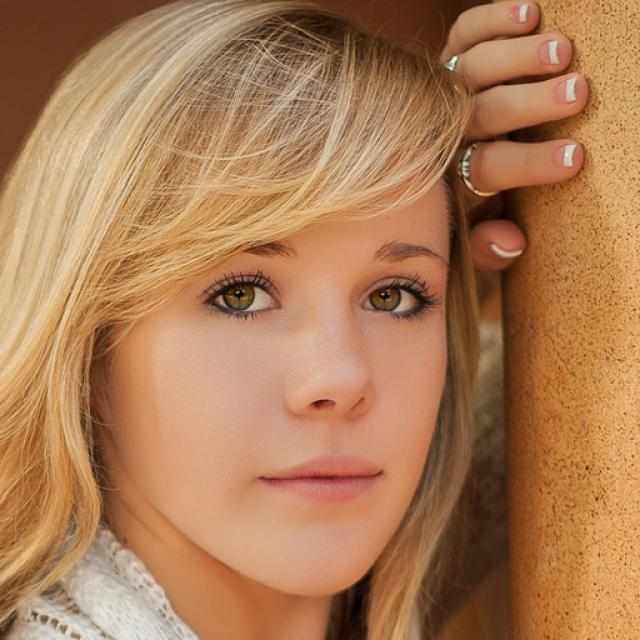neutral: (111, 74, 450, 595)
